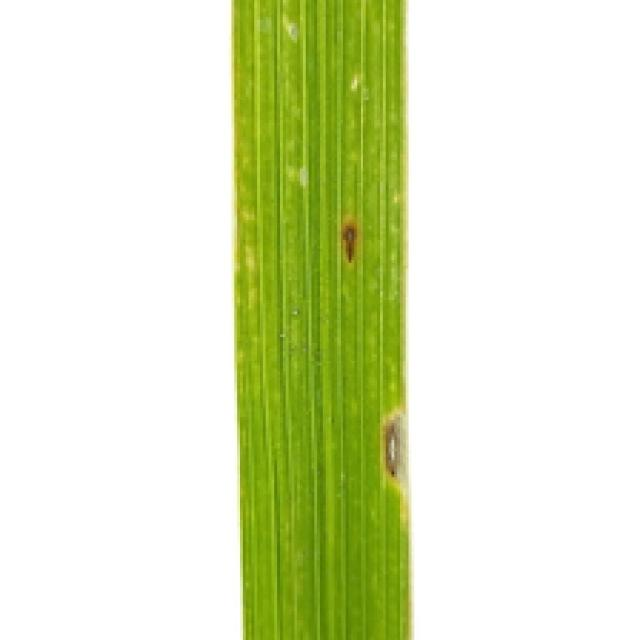Rice___Rice_Blast: (227, 0, 412, 637)
